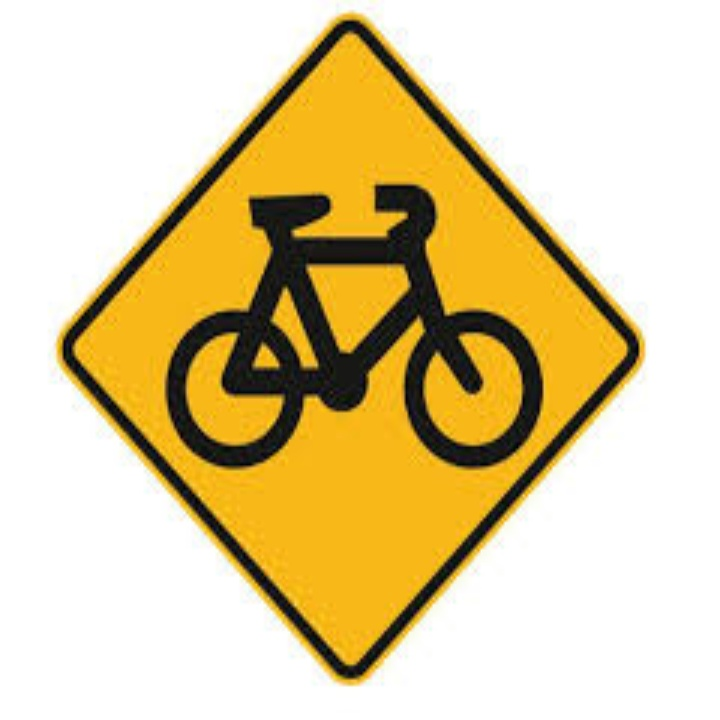bicycle: (155, 145, 547, 537)
